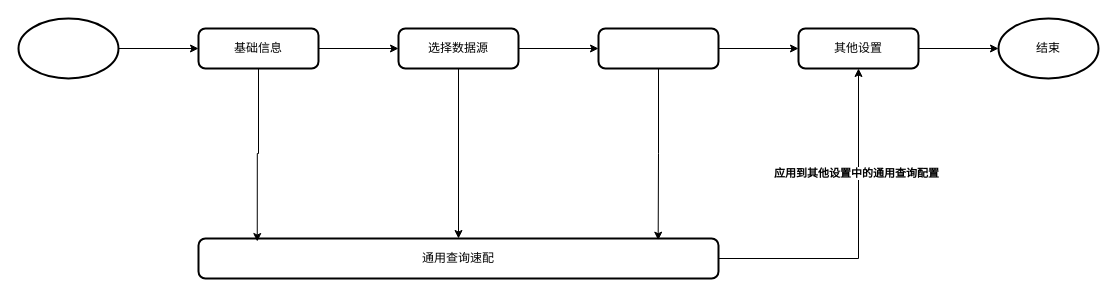
The diagram is 1116 pixels wide and 296 high, and some of its shapes have lost their labels. The shapes that lost their labels are listed below. From the top down, each one's centre as x and y in pixels, then its label:
pixel 68 48: 开始
pixel 658 48: 字段设置
